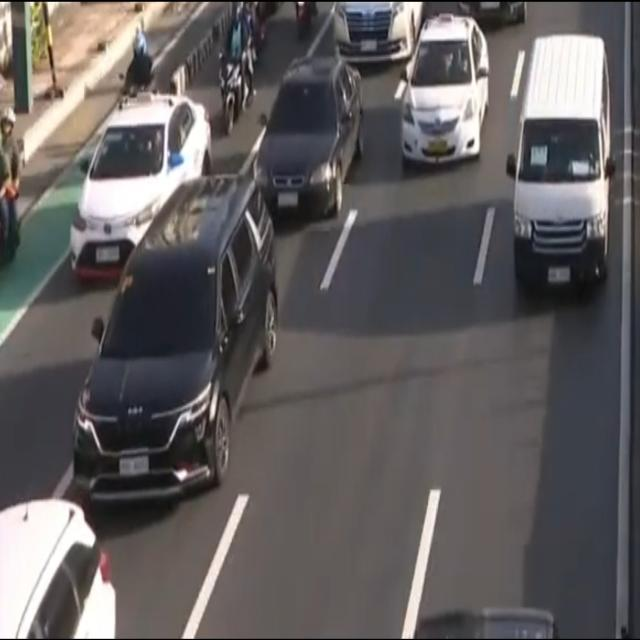SUV: (72, 172, 276, 509)
Sedan: (67, 102, 211, 286), (255, 65, 365, 204), (399, 12, 488, 167)
Van: (509, 31, 613, 303)
